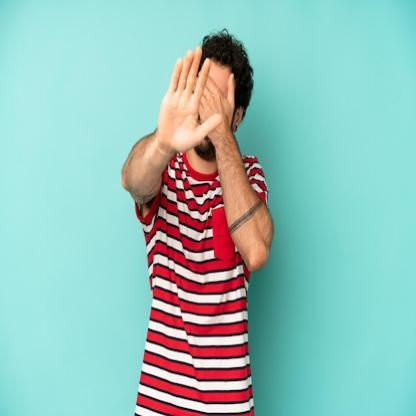stop: (156, 41, 224, 154)
